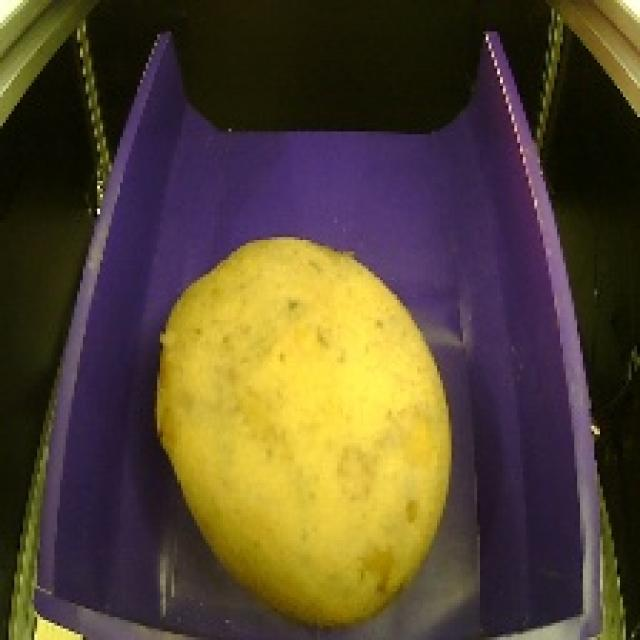full_potato: (146, 221, 458, 638)
